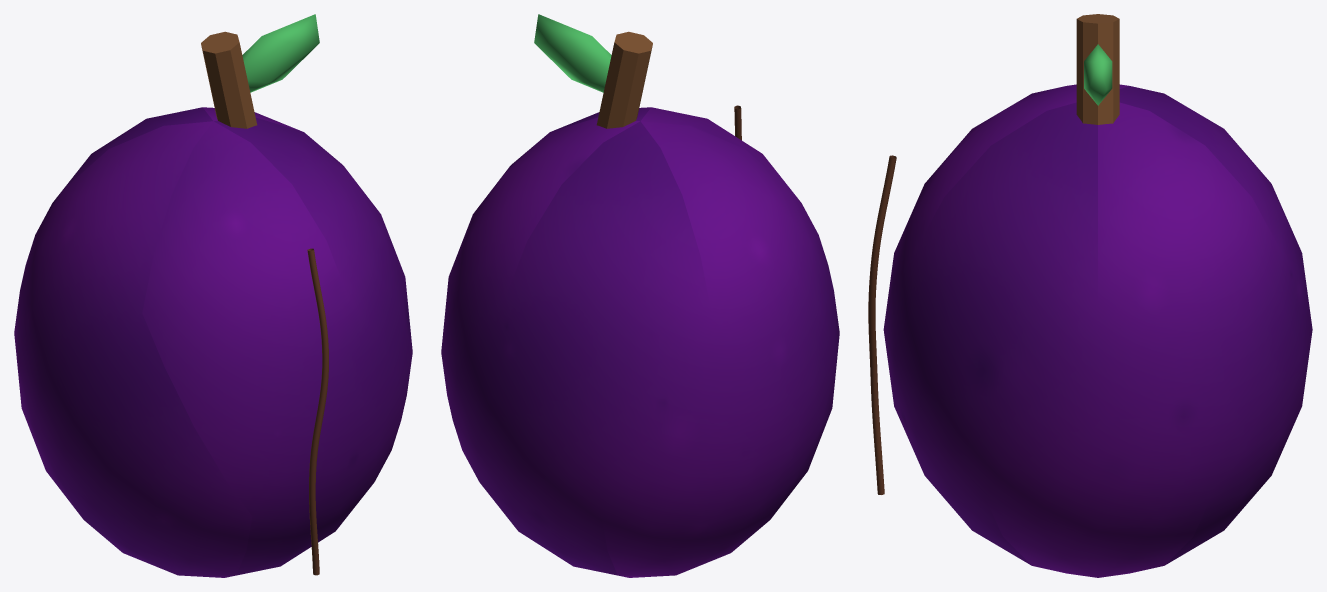
File: plum.glb
3 views of the same model, side by side, from view 1: azimuth 30°, elevation 25°; view 2: azimuth 150°, elevation 25°; view 3: azimuth 270°, elevation 25° (orthographic). The views are drawn at different scales.
Visible parts, largest first — view 1: Plum_Body, Plum_Stem, Plum_Leaf, Plum_Groove; view 2: Plum_Body, Plum_Stem, Plum_Leaf; view 3: Plum_Body, Plum_Stem, Plum_Groove, Plum_Leaf.
Boxes of the visible parts, box(x1,y1,x2,y2) form: Plum_Body: box(14, 107, 412, 577); Plum_Stem: box(201, 31, 257, 128); Plum_Leaf: box(242, 14, 319, 92); Plum_Groove: box(307, 248, 328, 575); Plum_Body: box(441, 107, 839, 577); Plum_Stem: box(596, 31, 652, 128); Plum_Leaf: box(534, 14, 611, 92); Plum_Body: box(883, 84, 1312, 577); Plum_Stem: box(1076, 14, 1119, 124); Plum_Groove: box(868, 155, 896, 494); Plum_Leaf: box(1084, 44, 1112, 105).
Bounding box in the file's own units: 0.88 × 1.28 × 0.932.
4 materials, 1 textured.
